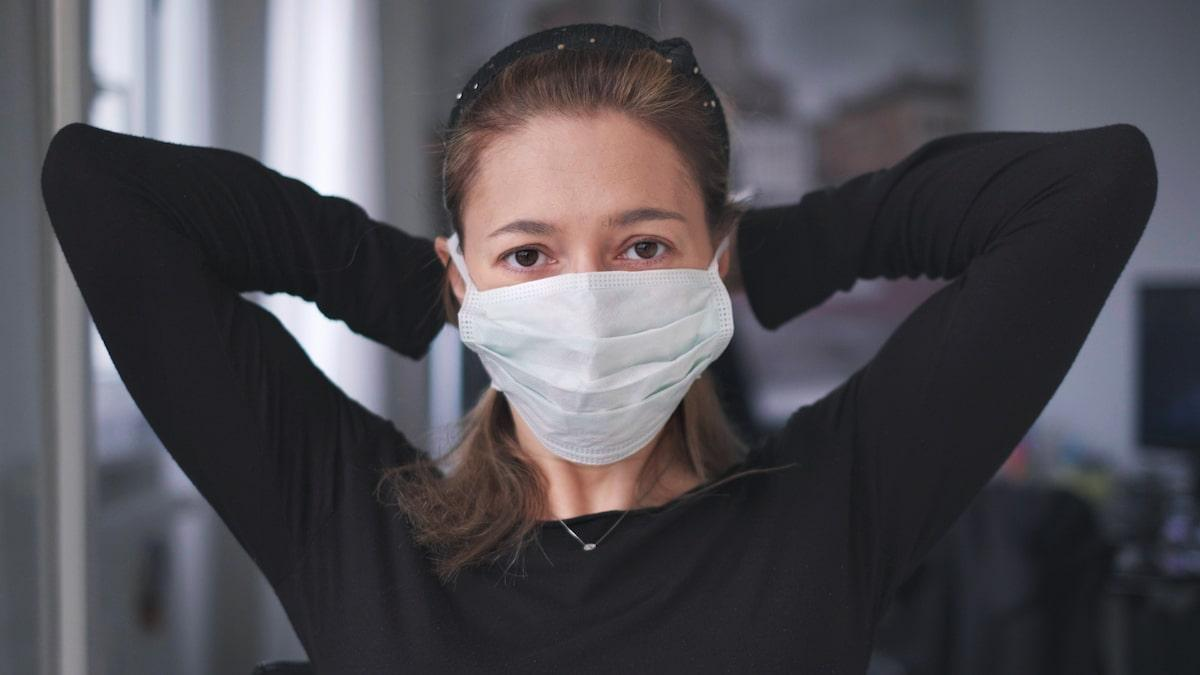mask: (442, 252, 740, 477)
